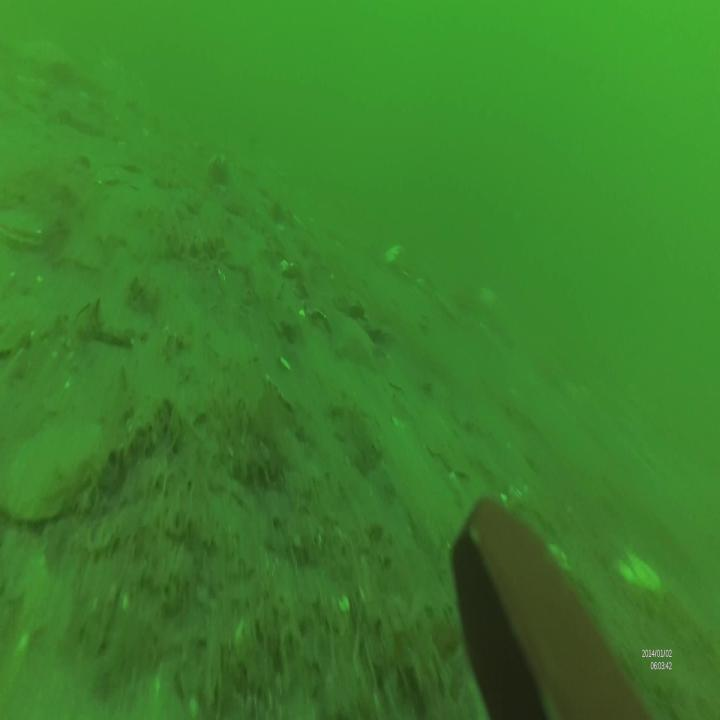scallop: (2, 196, 46, 261)
starfish: (320, 304, 380, 374)
